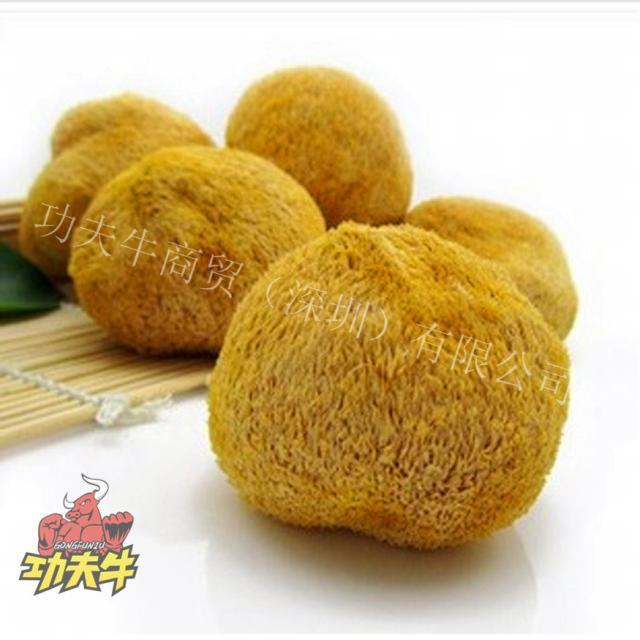Hericium erinaceus: (209, 219, 569, 547), (75, 144, 326, 359), (20, 94, 215, 274), (226, 68, 411, 229), (407, 198, 576, 331)
